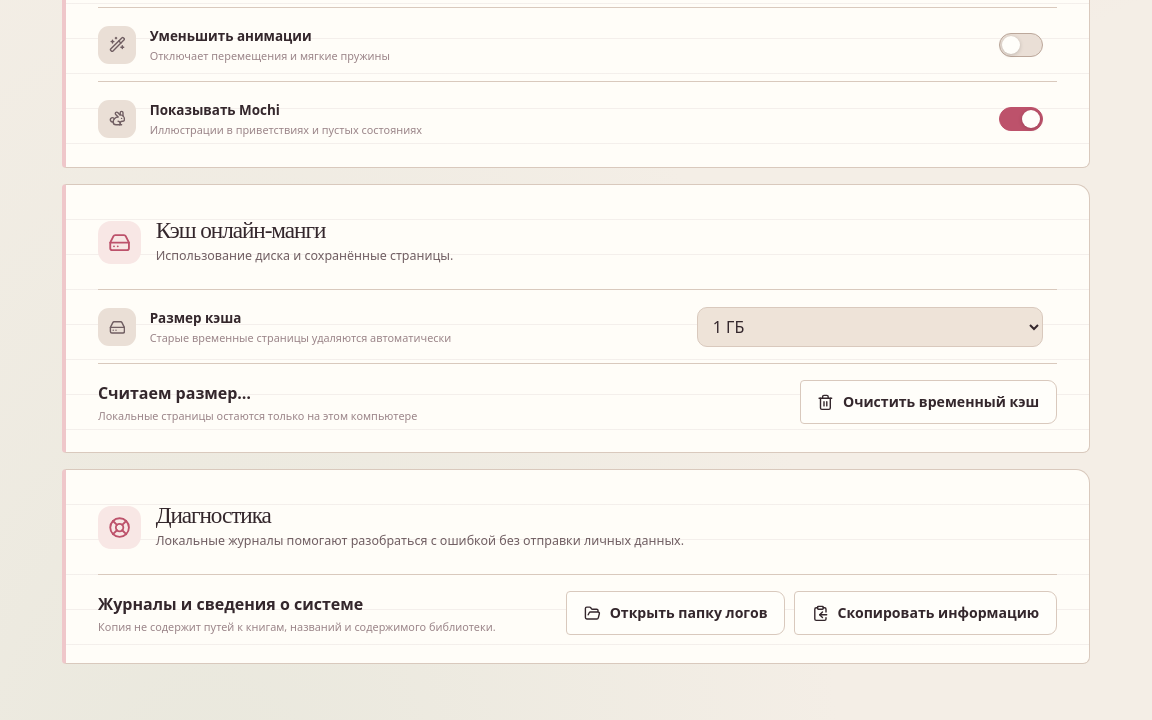
it: settings page › opens logs and copies bounded diagnostic information
(page scrolled)
Click the button "Открыть папку логов" at (676, 613), box [566,591,785,635]
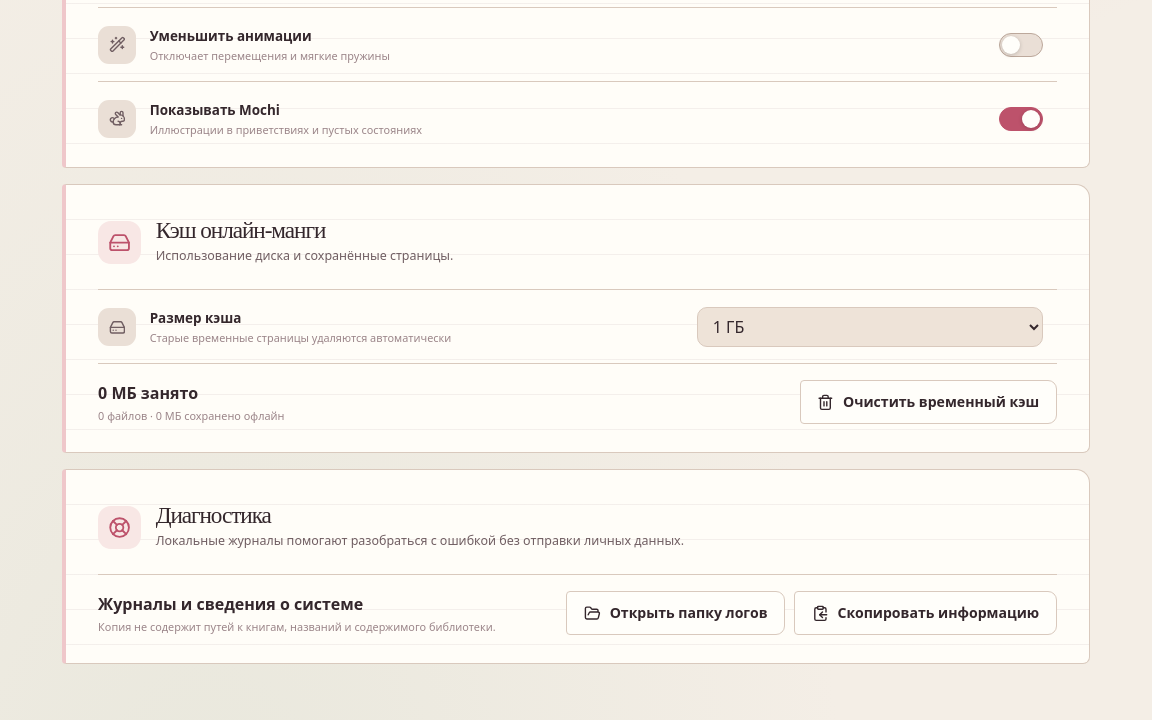
Click the button with aria-label "Скопировать диагностическую информацию" at (926, 613), box [794,591,1057,635]
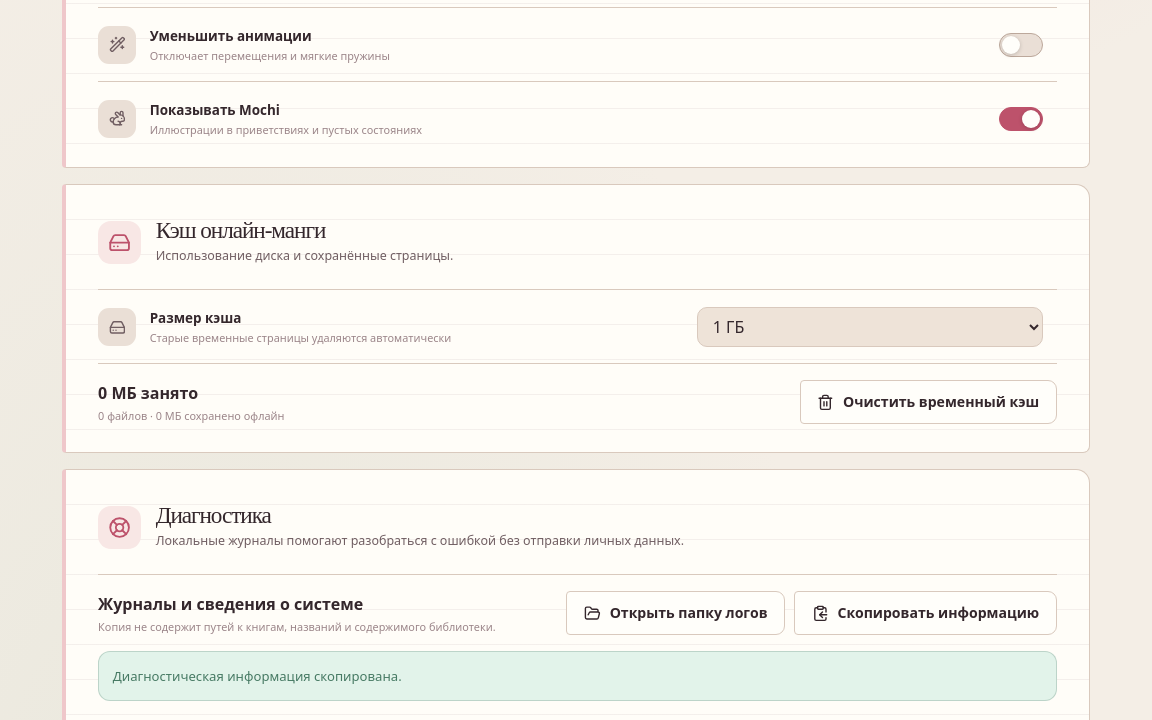
expect the text "Диагностическая информация скопирована." is shown: met, box [98,651,1057,701]
